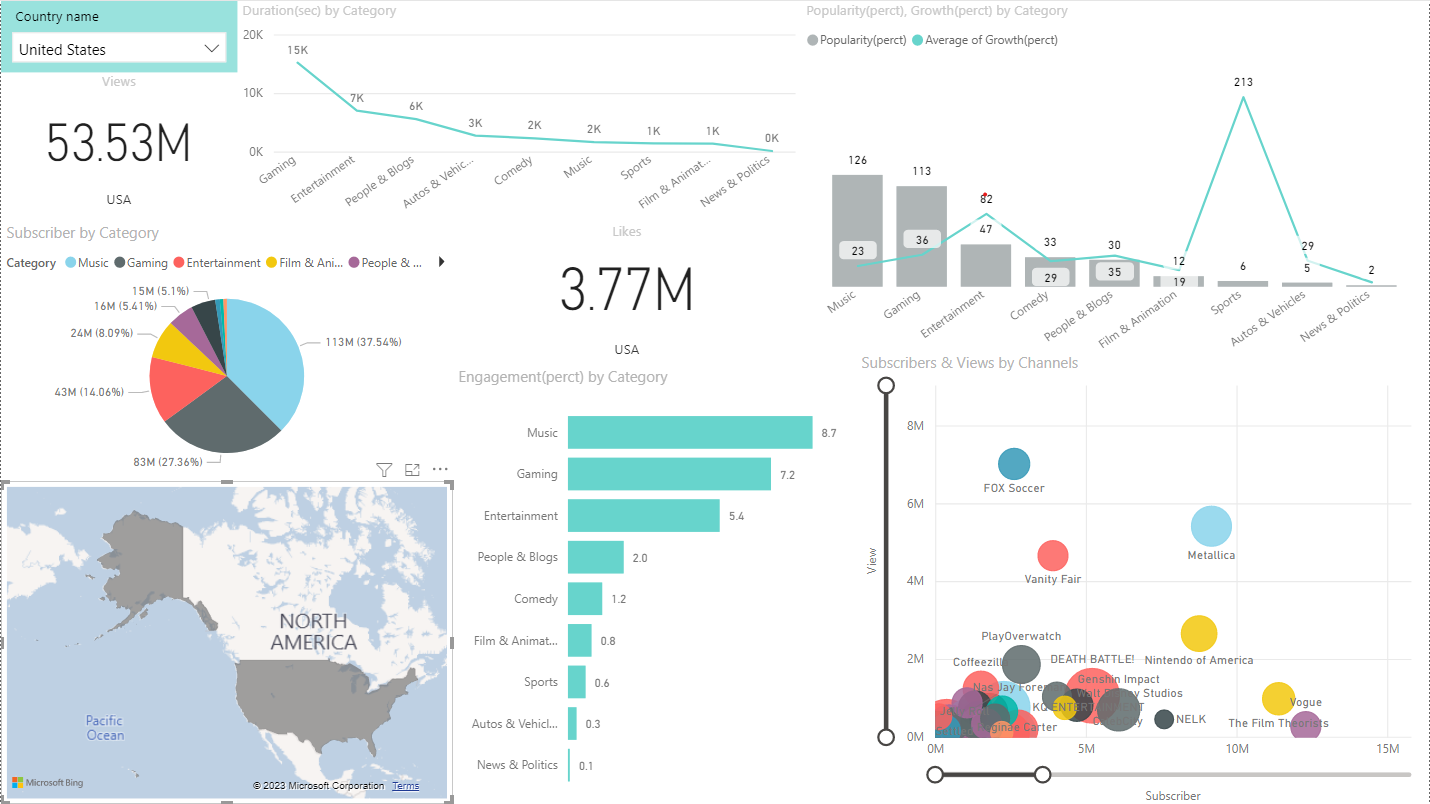

This screenshot's page, from the dashboard's own definition file:
{"tool":"powerbi","page":{"name":"Dashboard","canvas":[1280,720],"ordinal":0},"visuals":[{"type":"filledMap","fields":{"Category":["Youtube.country_code"]},"box":[0,430.4,405.3,289.6],"z":0},{"type":"pieChart","title":"Subscriber by Category","fields":{"Category":["Youtube.category"],"Y":["Youtube.Channel subscribers"],"Series":["Youtube.Country name"]},"box":[0,198.2,405.3,232.2],"z":1000},{"type":"scatterChart","title":"Subscribers & Views by Channels","fields":{"X":["Youtube.Channel subscribers"],"Y":["Youtube.View"],"Category":["Youtube.Channel name"],"Size":["Youtube.Engagement(perct)"],"Series":["Youtube.Category"]},"box":[766.6,314.7,513.8,405.3],"z":2000},{"type":"lineClusteredColumnComboChart","title":"Popularity(perct), Growth(perct) by Category","fields":{"Category":["Youtube.Category"],"Y2":["Youtube.Growth(perct)"],"Y":["Youtube.Popularity(perct)"]},"box":[717.3,0,563.1,327.3],"z":3000},{"type":"barChart","title":"Engagement(perct) by Category","fields":{"Category":["Youtube.Category"],"Y":["Youtube.Engagement(perct)"]},"box":[405.3,327.3,361.3,392.7],"z":4000},{"type":"lineChart","fields":{"Y":["Youtube.Duration(sec)"],"Category":["Youtube.Category"]},"box":[211.6,0,505.7,198.2],"z":5000},{"type":"kpi","title":"Views","fields":{"Indicator":["Youtube.View"],"TrendLine":["Youtube.Country Code"]},"box":[0,63.7,211.6,134.5],"z":6000},{"type":"kpi","title":"Likes","fields":{"TrendLine":["Youtube.Country Code"],"Indicator":["Youtube.Like"]},"box":[405.3,198.2,312,129.1],"z":7000},{"type":"slicer","fields":{"Values":["Youtube.Country name"]},"box":[0,0,211.6,63.7],"z":8000}]}

Visuals, with their boxes in screenshot pixels (x1, y1, x2, y2), scaled from the page's 1280x720 canvas onto the 1430x804 screenshot:
filledMap - Youtube.country_code: l=0, t=481, r=453, b=803
"Subscriber by Category" pieChart: l=0, t=221, r=453, b=481
"Subscribers & Views by Channels" scatterChart: l=856, t=351, r=1429, b=803
"Popularity(perct), Growth(perct) by Category" lineClusteredColumnComboChart: l=801, t=0, r=1429, b=365
"Engagement(perct) by Category" barChart: l=453, t=365, r=856, b=803
lineChart - Youtube.Duration(sec) x Youtube.Category: l=236, t=0, r=801, b=221
"Views" kpi: l=0, t=71, r=236, b=221
"Likes" kpi: l=453, t=221, r=801, b=365
slicer - Youtube.Country name: l=0, t=0, r=236, b=71
